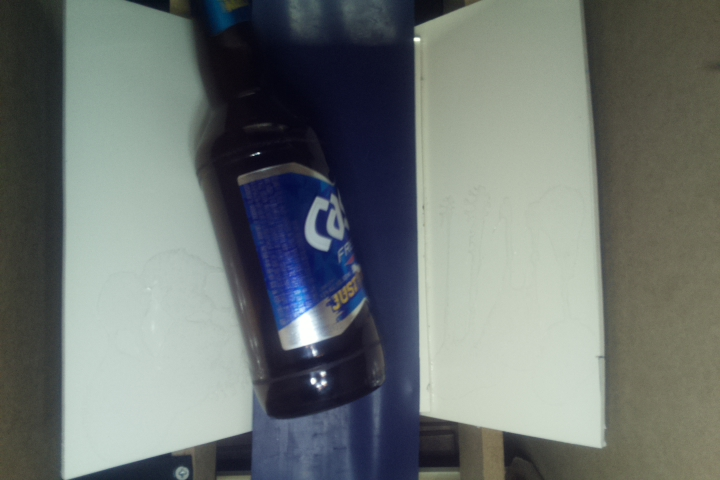makju: (179, 1, 390, 420)
